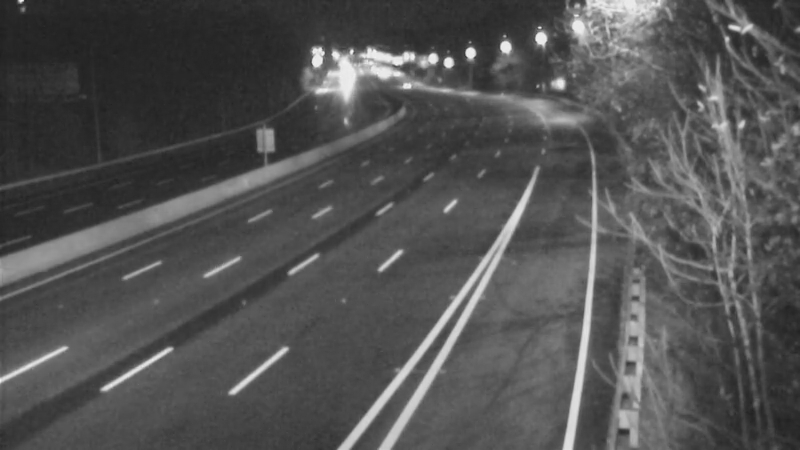vehicle: (376, 59, 426, 109)
